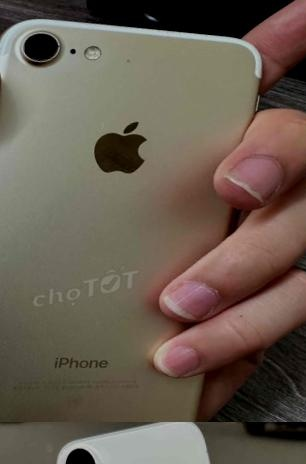scratch: (116, 50, 139, 70)
